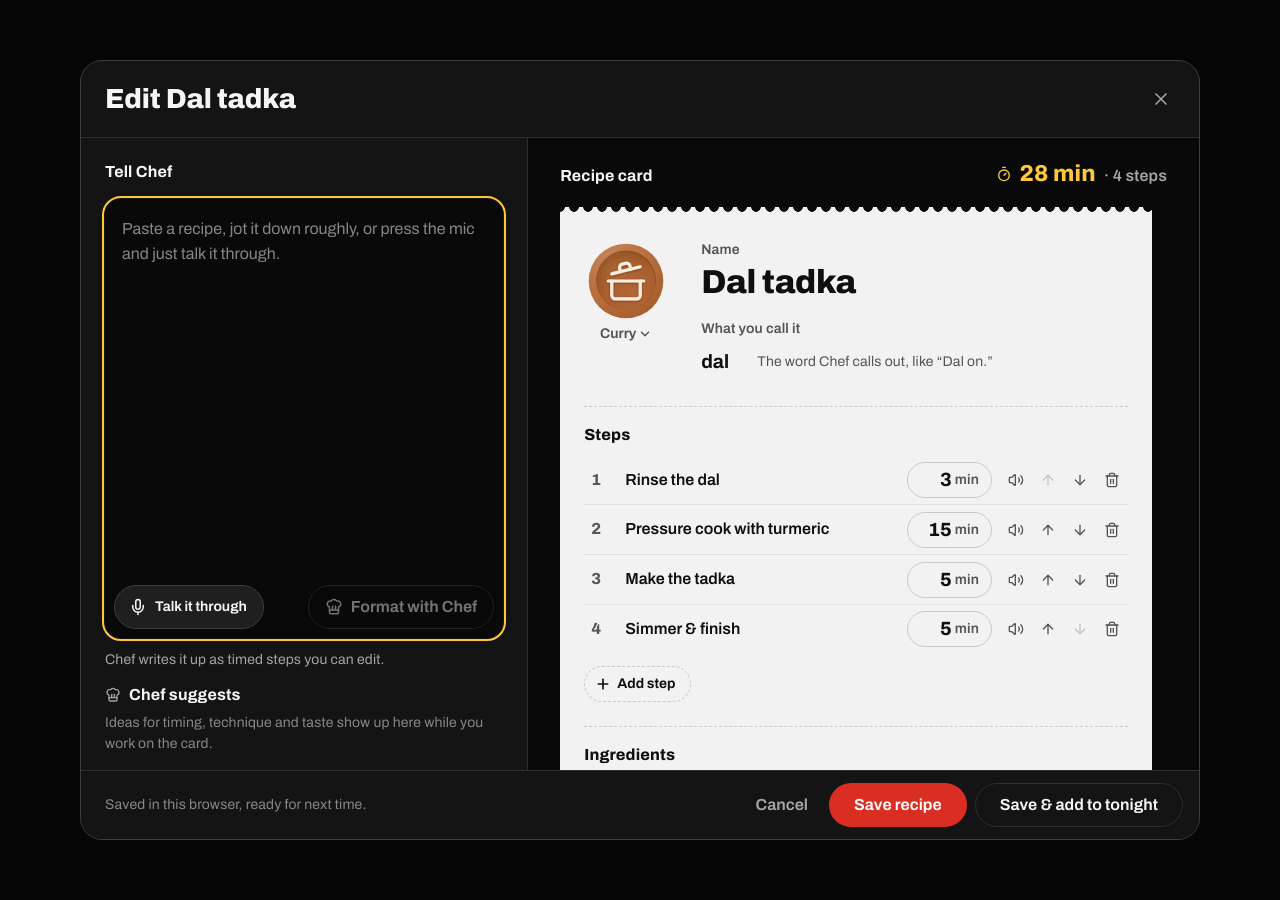
Test: RecipeStudio › asks Chef for suggestions 2.5 s after a hand edit, once the card has a name and two steps
Replace the text in the number field named "Step 2 minutes" with "20" at (932, 530), box [912,515,952,544]
Wait 2400 ms
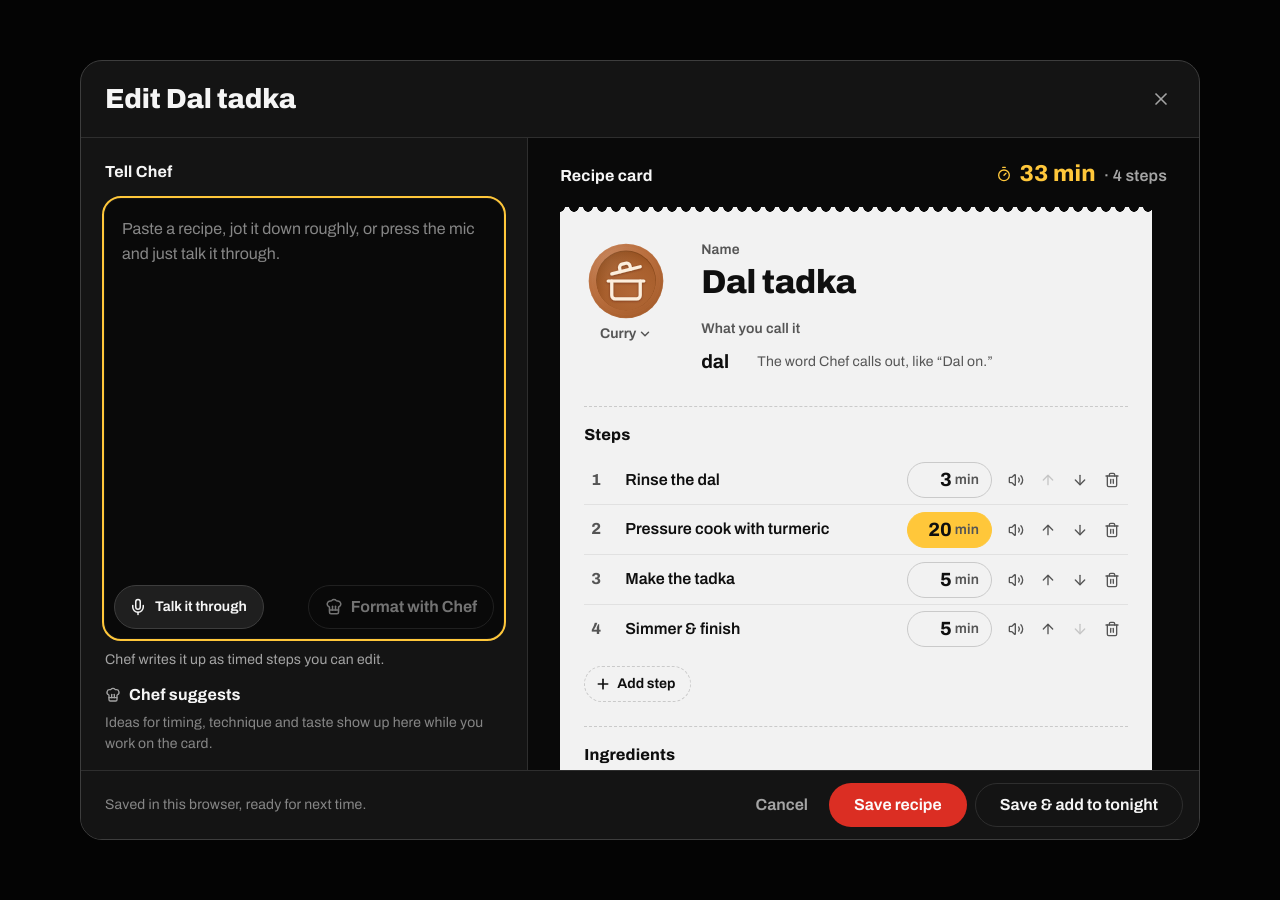
Replace the text in the field named "Step 1" with "Rinse the dal well" at (758, 480), box [616,460,899,499]
Wait 2500 ms
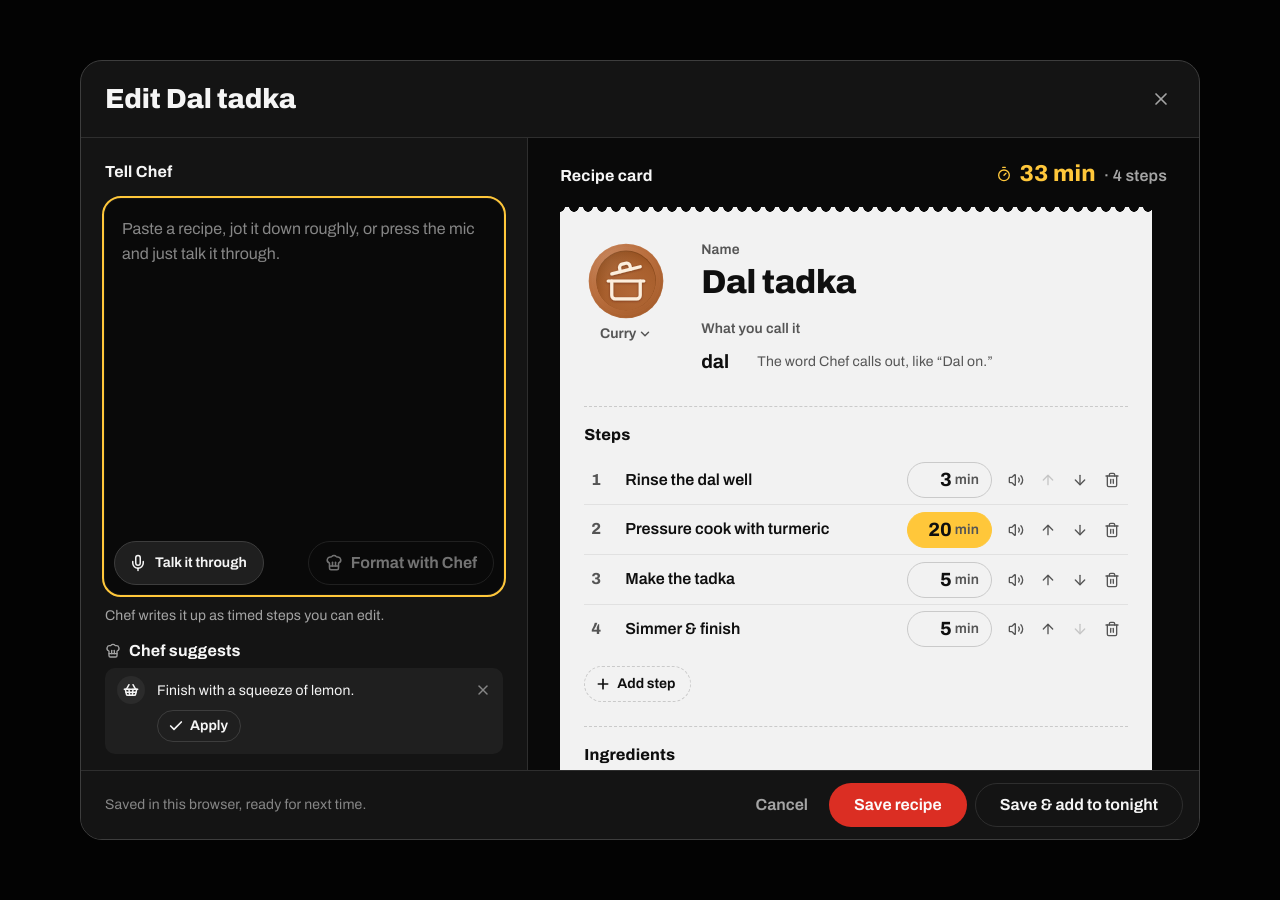
Result: the text "Finish with a squeeze of lemon." is shown at [157,683,354,698]
